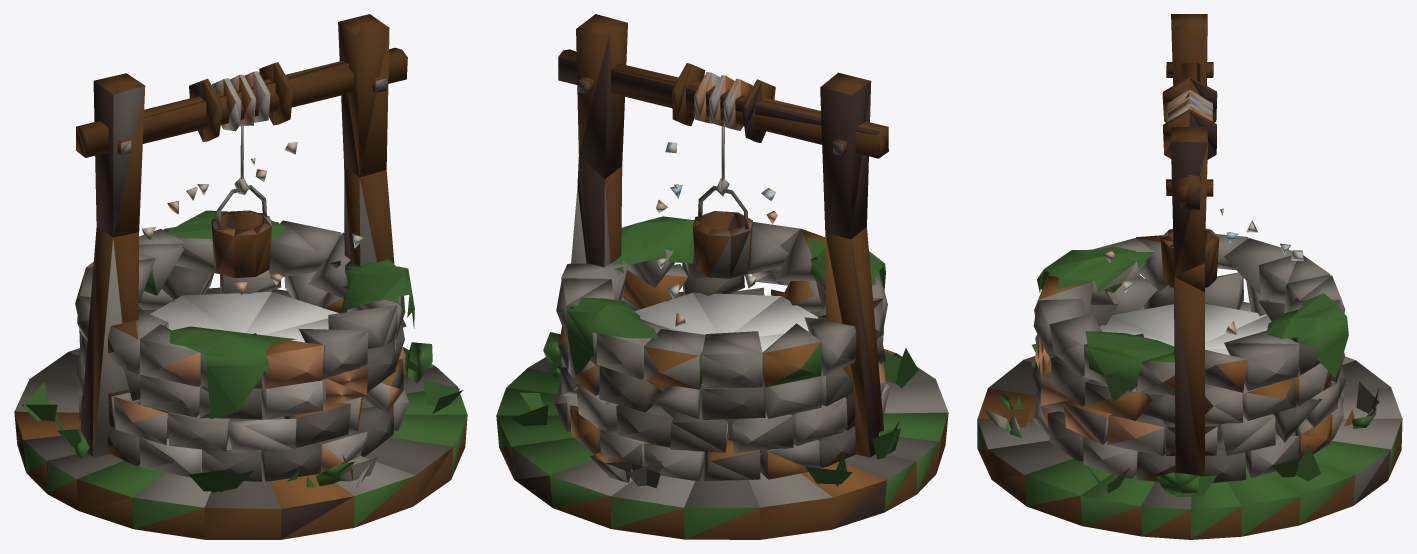
Rendered from building.spirit_well.glb.
3 renders of one model, left to right at view 1: azimuth 30°, elevation 25°; view 2: azimuth 150°, elevation 25°; view 3: azimuth 270°, elevation 25°, orthographic. The views are drawn at different scales.
Parts seen in each view (by area): view 1: asset; view 2: asset; view 3: asset.
Part boxes in pixels (bbox=[...]): asset: bbox=[14, 14, 467, 539]; asset: bbox=[496, 14, 948, 539]; asset: bbox=[977, 14, 1402, 539].
Bounding box in the file's own units: 2 × 1.95 × 2.
